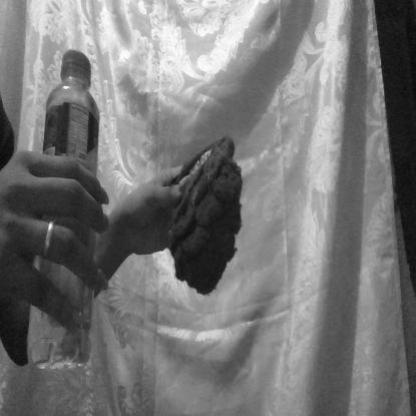Plastic Bottle: (20, 39, 121, 385)
